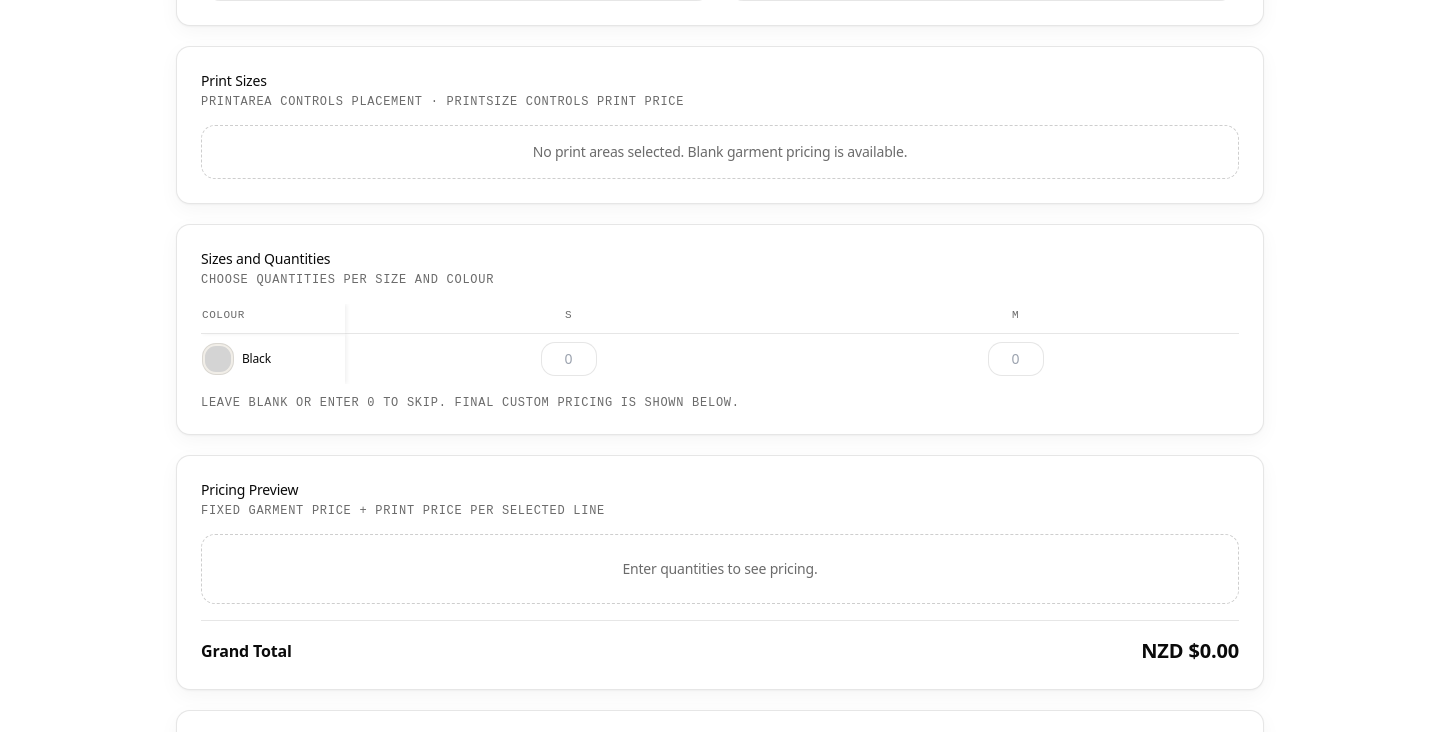
Test: add to cart › blocks when a selected print area has no print size chosen
(page scrolled)
In the number field named "Quantity for Black S": {"x": 568, "y": 359} [540,342,596,376], type "3"
(page scrolled)
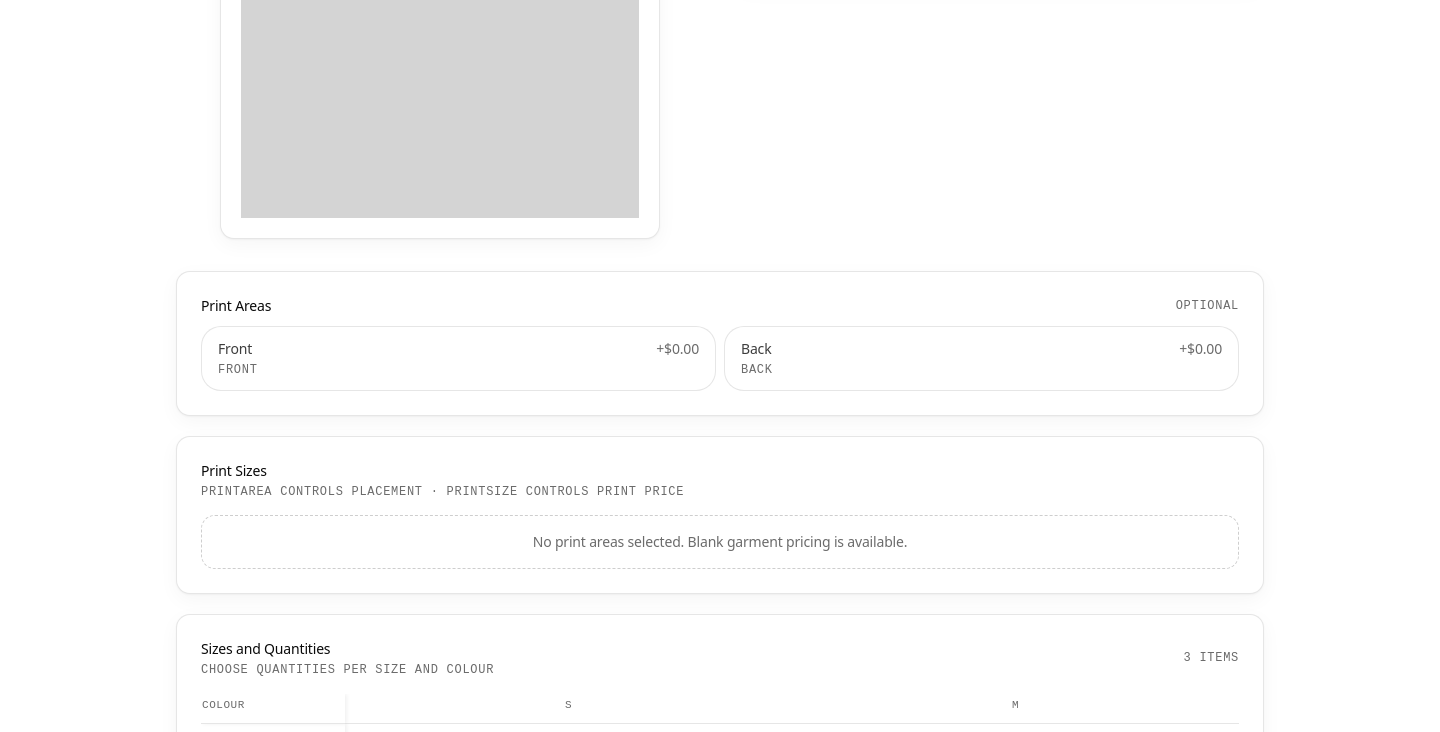
Click the button "Front FRONT +$0.00": {"x": 235, "y": 349} [201,326,716,391]
(page scrolled)
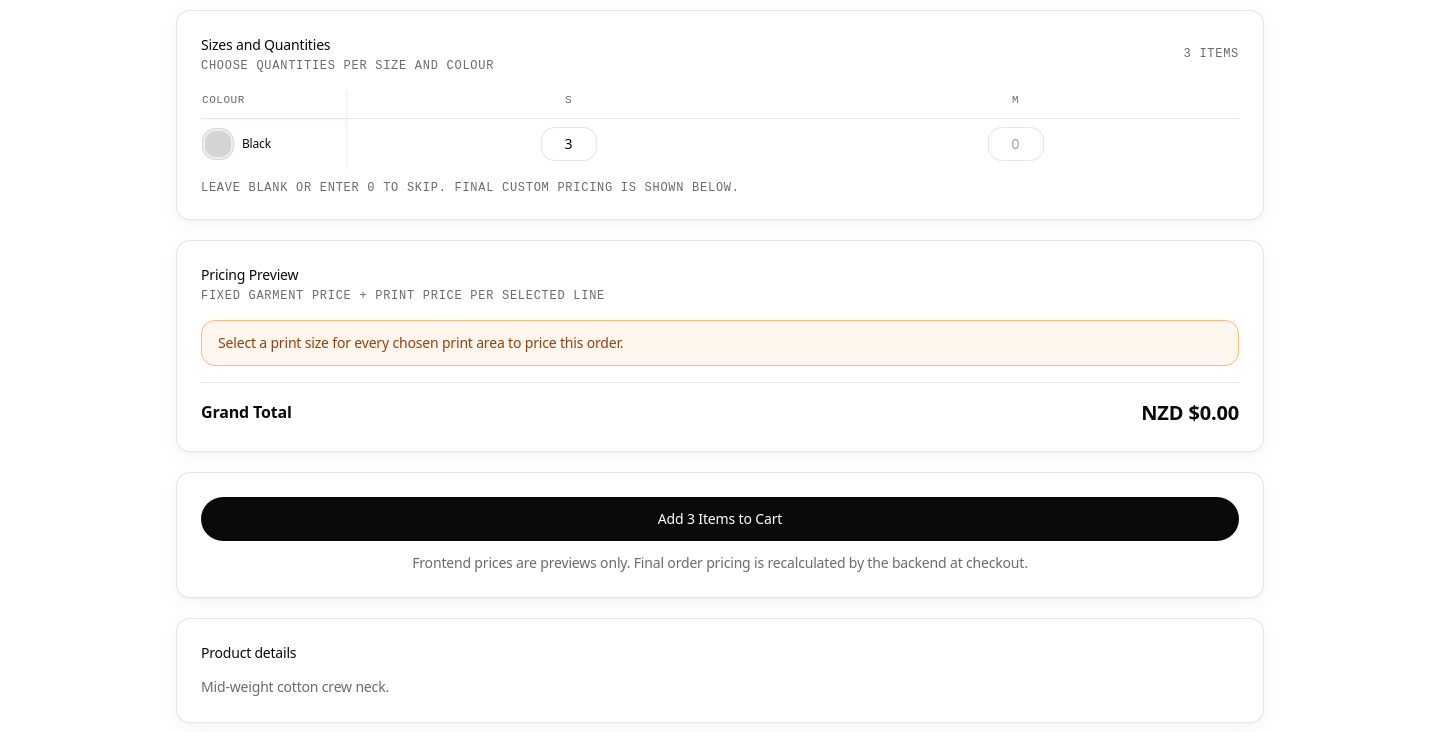
Click the button "Add 3 Items to Cart": {"x": 720, "y": 519} [201,497,1239,541]
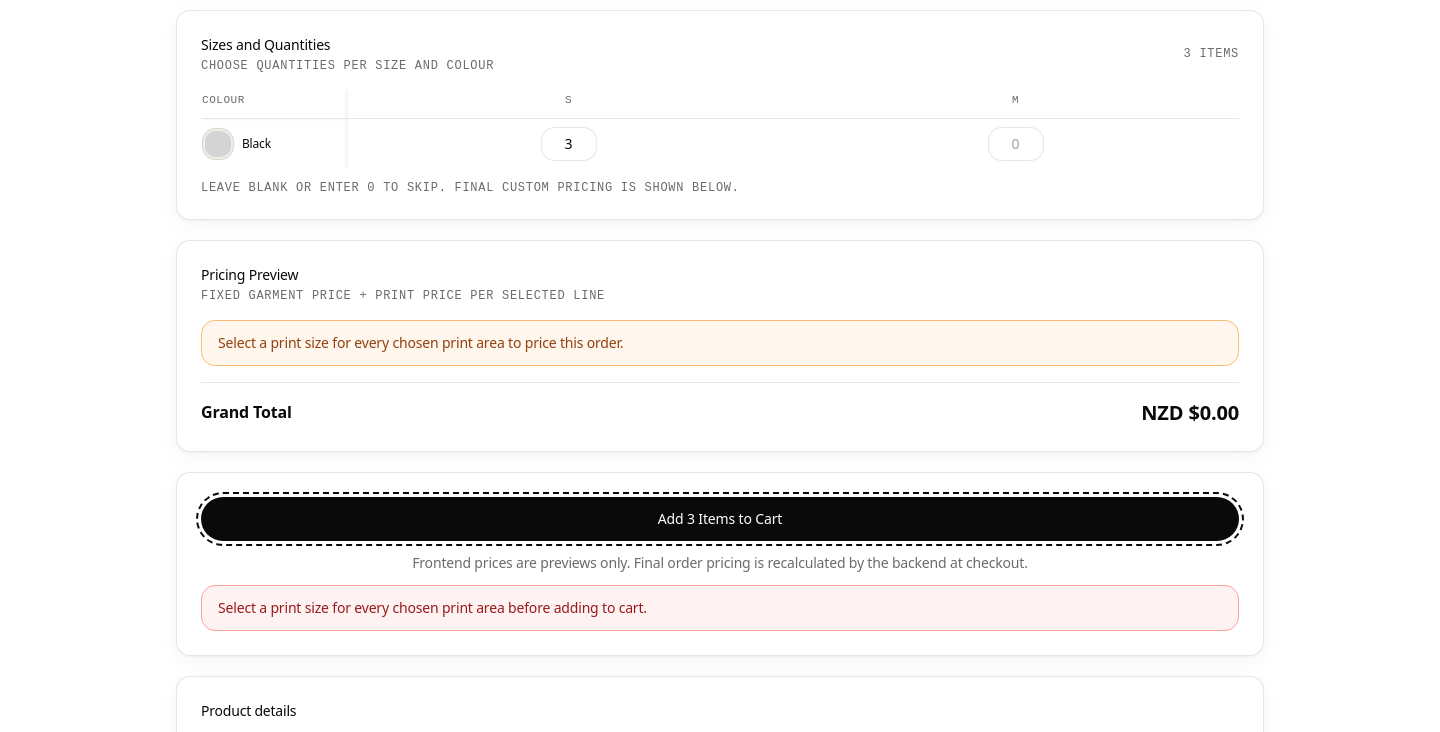
Check: the message shows "Select a print size", box [218,598,647,617]
